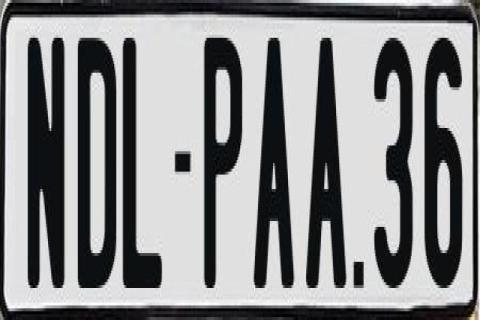0: (374, 29, 420, 288), (424, 29, 460, 297)
A: (304, 38, 346, 302), (251, 38, 291, 291)
D: (78, 38, 118, 288)
L: (123, 35, 162, 294)
N: (27, 29, 66, 279)
P: (202, 29, 240, 288)
